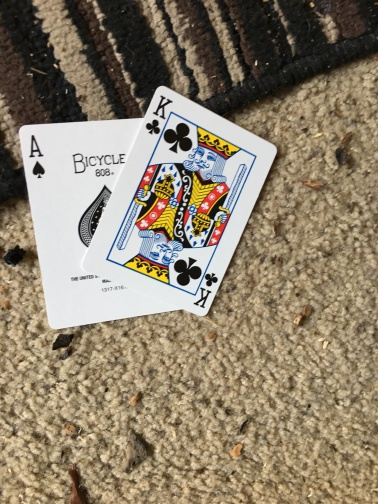ace: (17, 117, 140, 330)
king: (87, 83, 278, 316)
